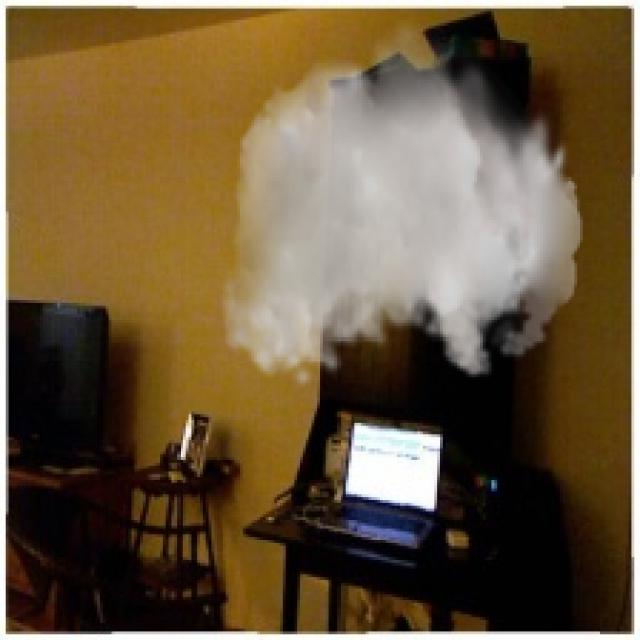smoke: (220, 11, 583, 392)
